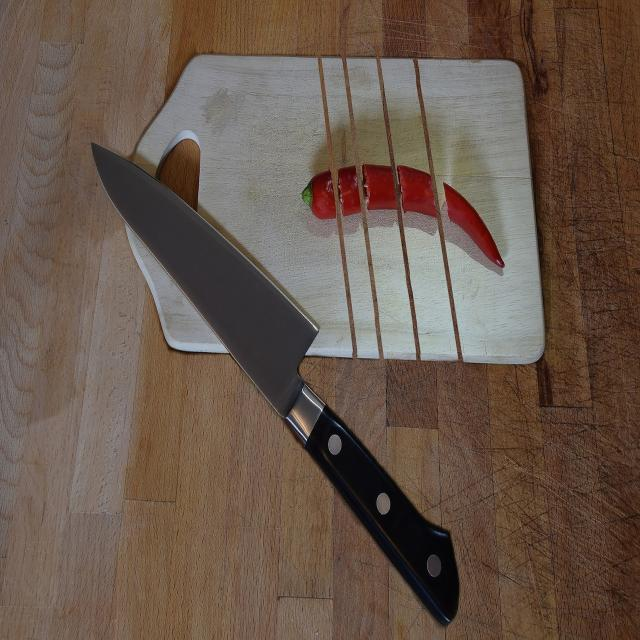Knife: (92, 144, 458, 621)
